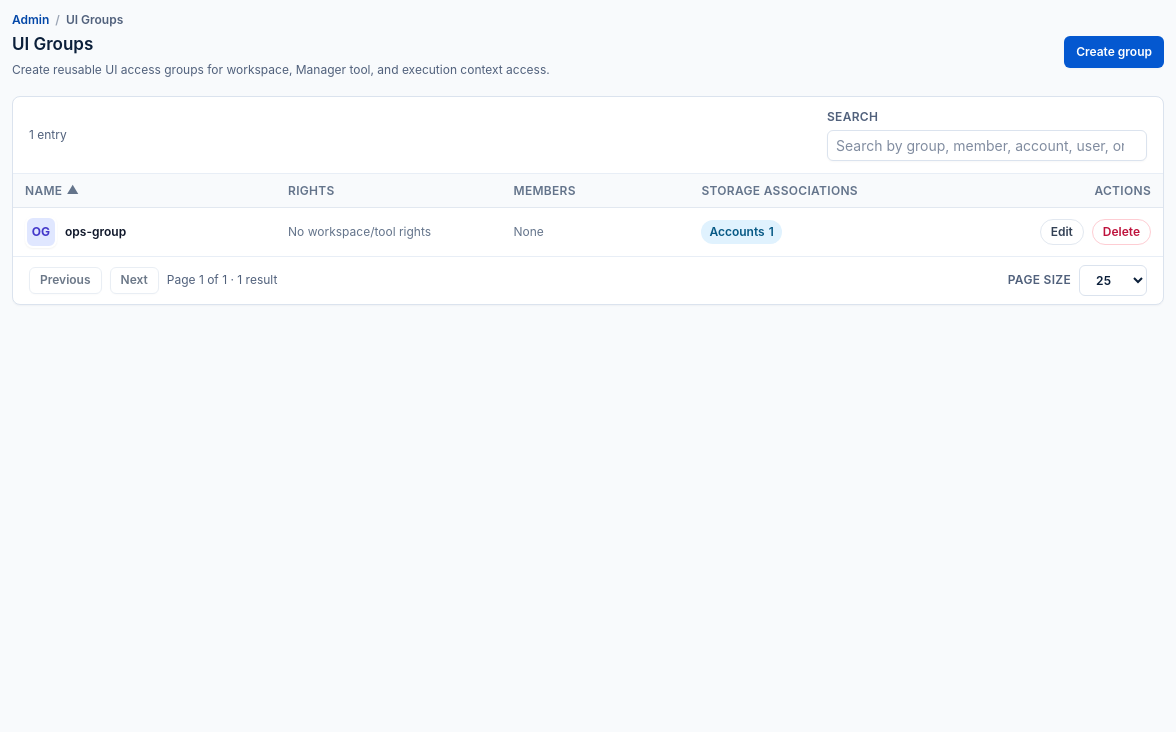
GroupsPage › keeps the required group Manager role while Portal is off
The width and height of the screenshot is (1176, 732).
Click the button "Edit": (1062, 232) [1040,219,1084,245]
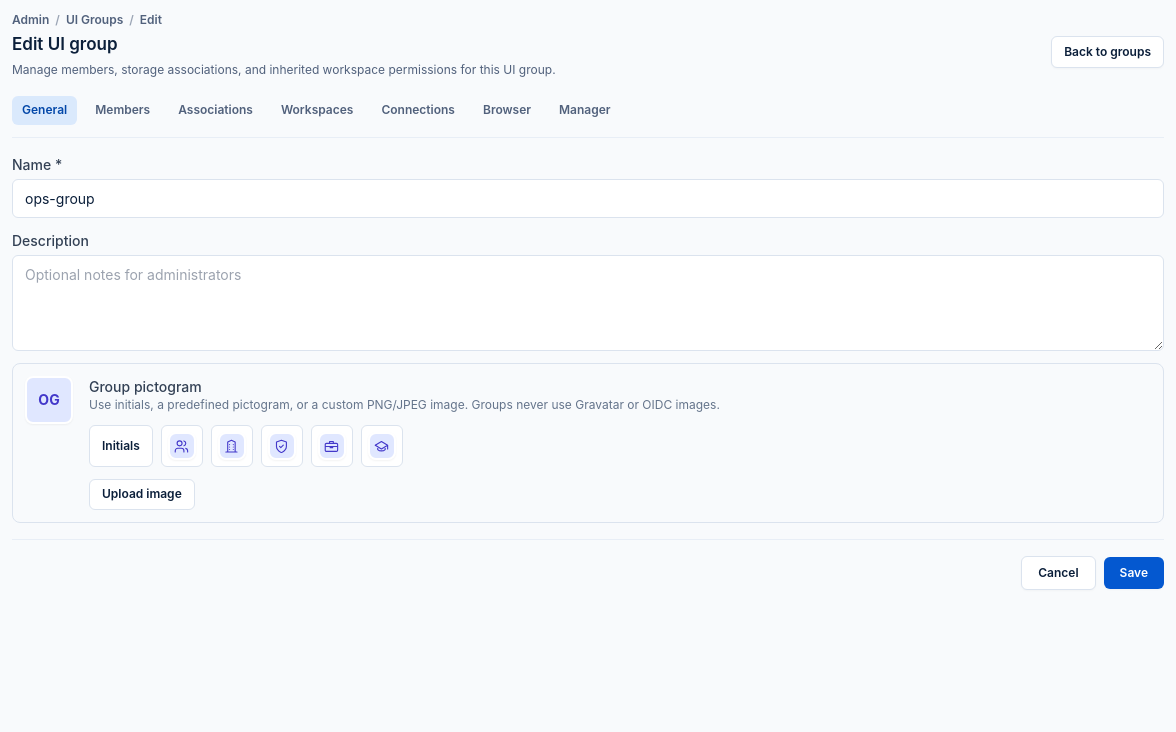
Click the tab "Associations": (216, 110) [168,96,263,124]
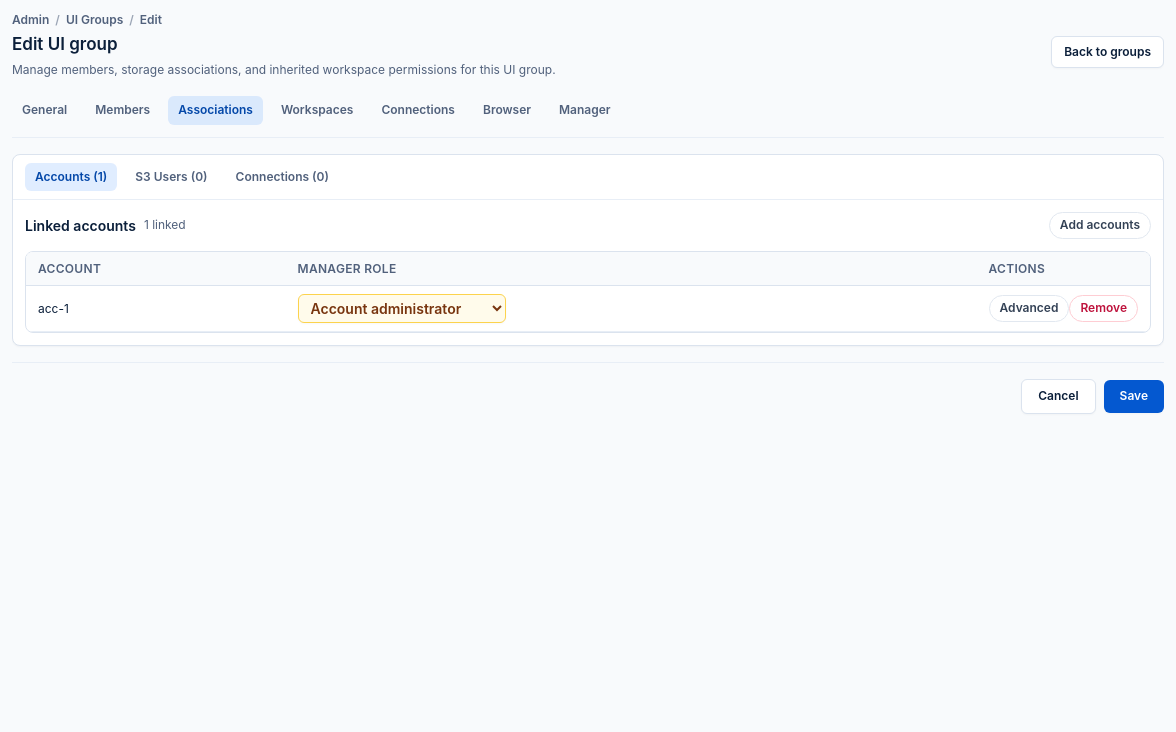
Check: the column heading "Manager role" is shown, box [286,252,976,286]
Check: the dropdown named "Manager role for acc-1" shows "Account administrator", box [298,294,506,323]
